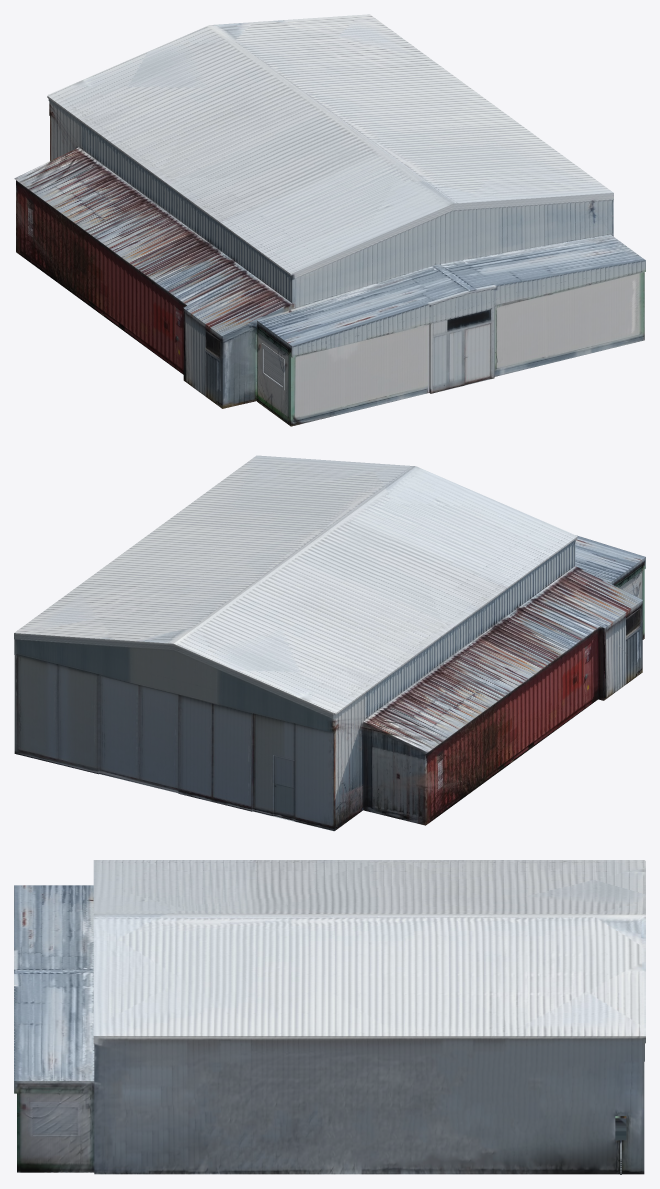
Rendered from hangar.obj.
The picture shows the model from 3 angles, top to bottom: view 1: azimuth 30°, elevation 25°; view 2: azimuth 150°, elevation 25°; view 3: azimuth 270°, elevation 25°; orthographic projection. The views are drawn at different scales.
Visible parts, largest first — view 1: BI_Hangar3.fbx/RootNode/LQBI_Hangar3/LQBI_Hangar3_Material_0; view 2: BI_Hangar3.fbx/RootNode/LQBI_Hangar3/LQBI_Hangar3_Material_0; view 3: BI_Hangar3.fbx/RootNode/LQBI_Hangar3/LQBI_Hangar3_Material_0.
Part boxes in pixels (x1,y1,x2,y2): BI_Hangar3.fbx/RootNode/LQBI_Hangar3/LQBI_Hangar3_Material_0: [14, 14, 645, 426]; BI_Hangar3.fbx/RootNode/LQBI_Hangar3/LQBI_Hangar3_Material_0: [14, 455, 645, 831]; BI_Hangar3.fbx/RootNode/LQBI_Hangar3/LQBI_Hangar3_Material_0: [14, 860, 645, 1174].
Bounding box in the file's own units: 23.34 × 8.5 × 28.59.
1 material, 1 textured.
